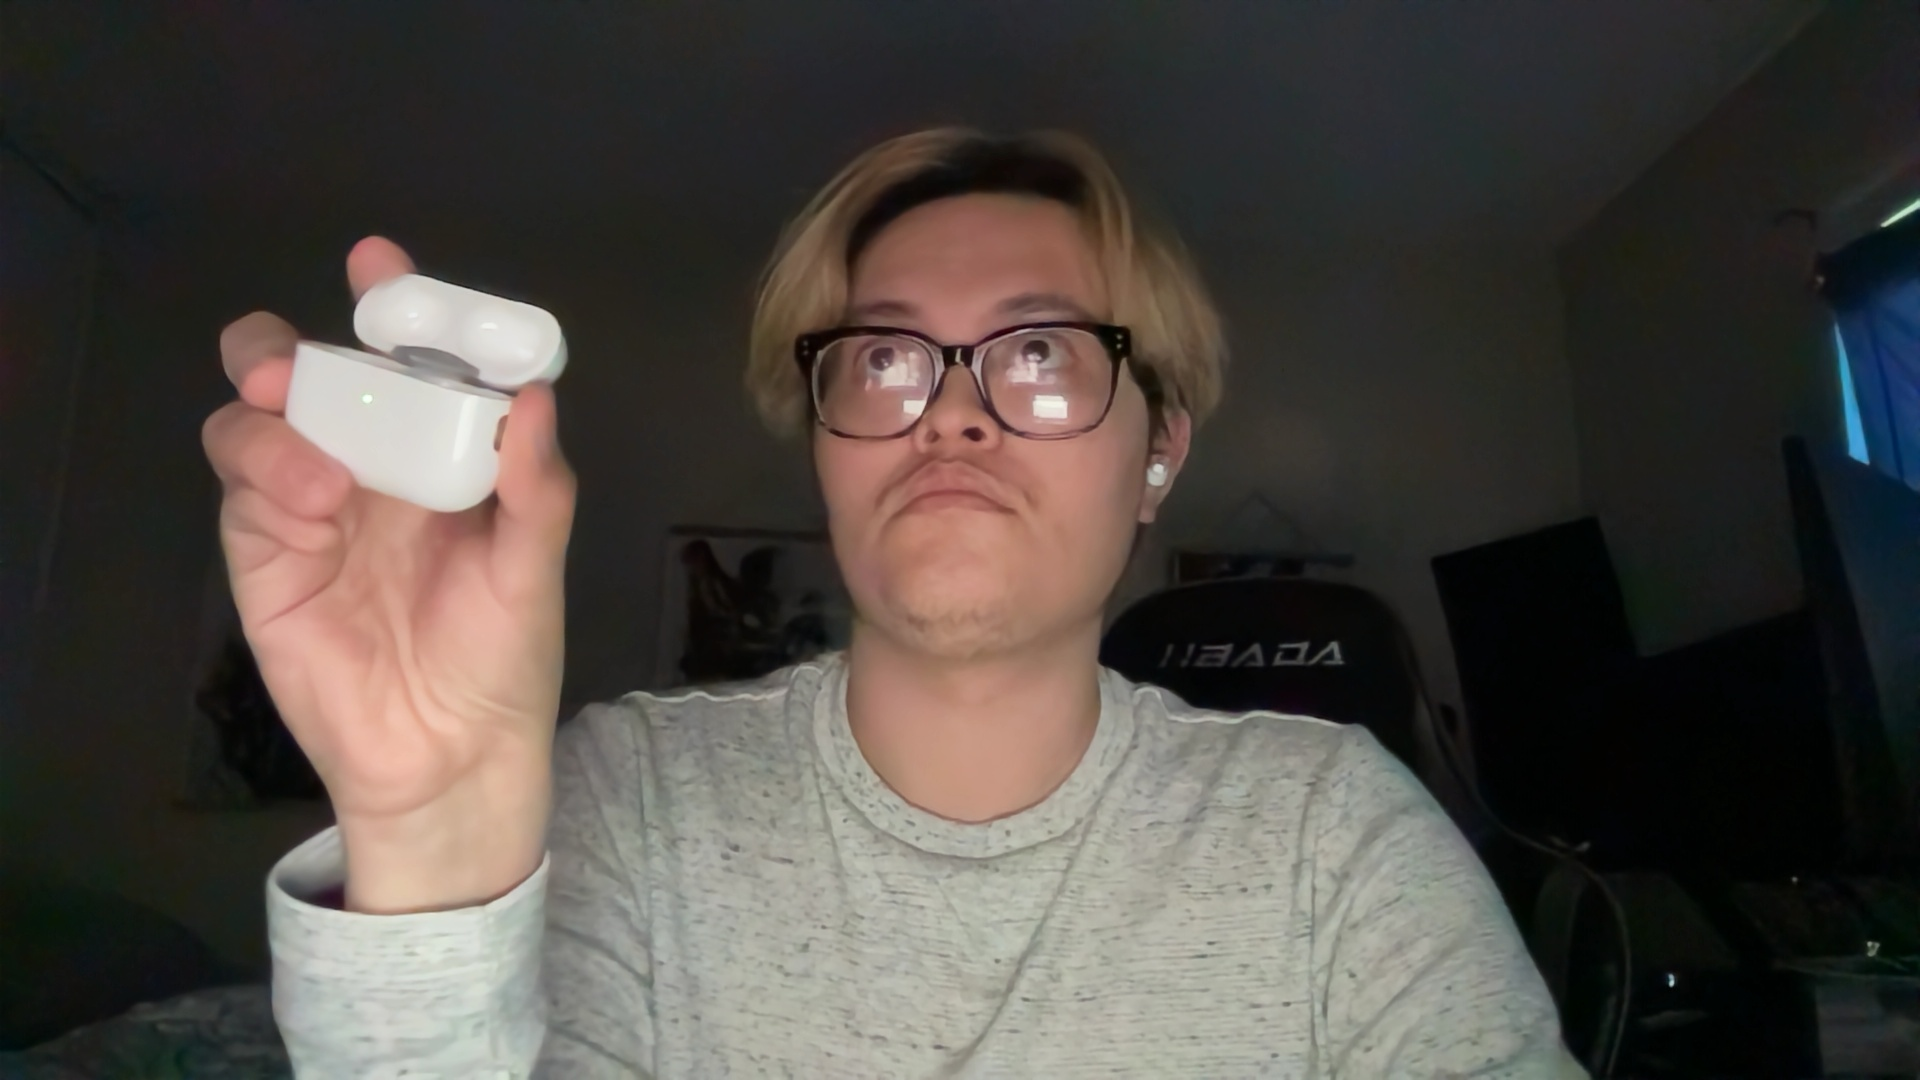airpods: (270, 245, 562, 518)
